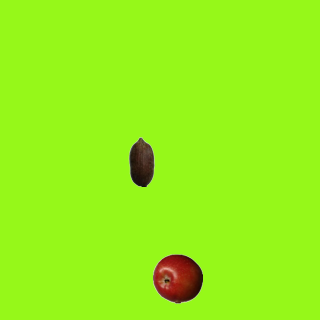Apple Braeburn: (152, 253, 202, 303)
Nut Pecan: (116, 136, 166, 186)
